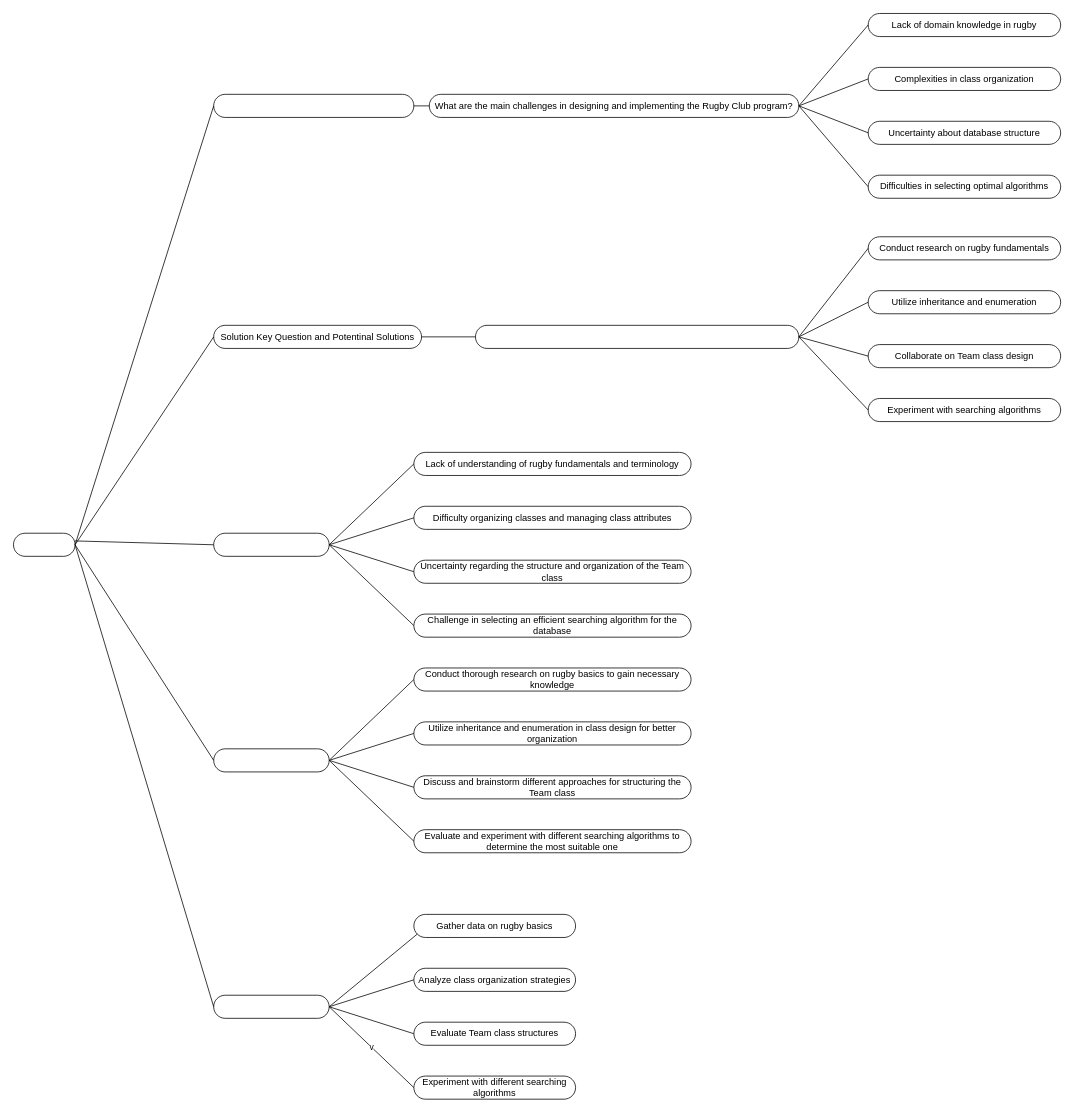
This 1074x1113 diagram has some shape labels left out. The centre of each missing label's shape, as x and y in pixels:
Diagnostic Key Question and Possible Causes: (313,105)
How can the identified challenges be addressed effectively?: (637,336)
Issue Map: (44,544)
Mitigation: (271,760)
Problem: (271,544)
Solution: (271,1006)
